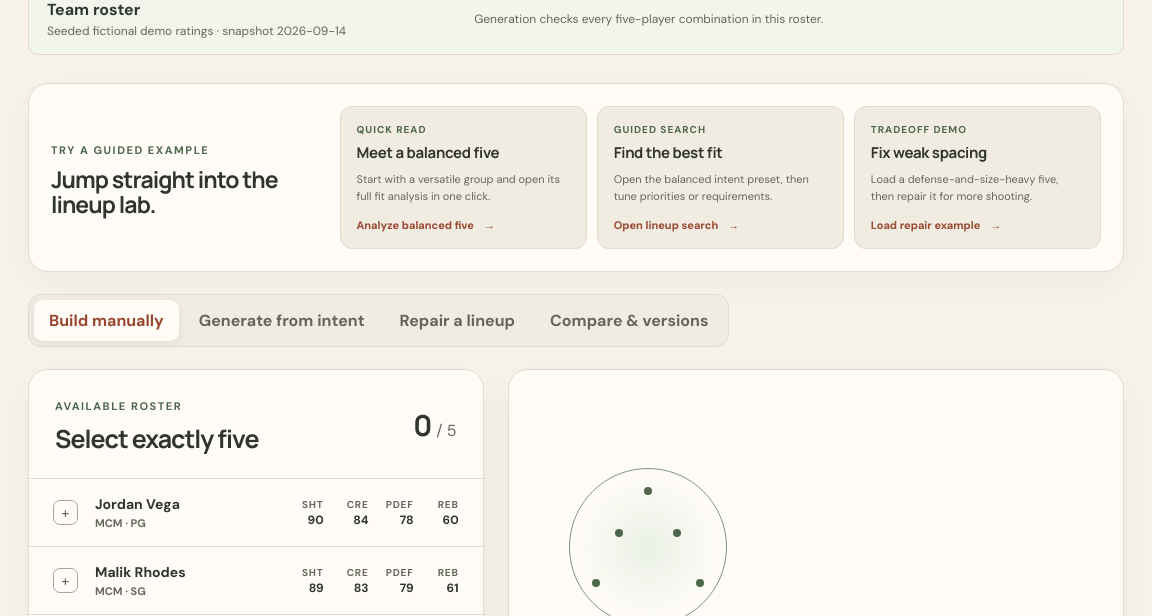
Test: structured lineup generation › submits balanced defaults, shows requirement evidence, and clears stale results on change
(page scrolled)
expect the button with aria-label "Select Jordan Vega" is shown: met, box [29, 480, 483, 548]
Click the tab "Generate from intent" at (282, 321), box [184, 300, 380, 342]
(page scrolled)
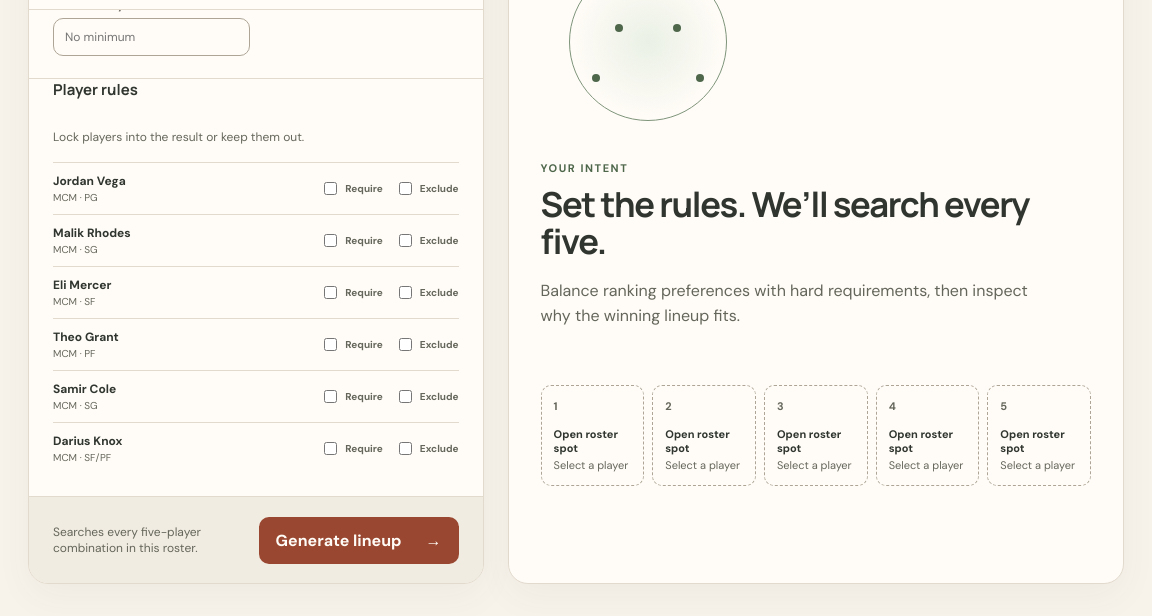
Click the button "Generate lineup →" at (359, 540), box [259, 517, 459, 564]
(page scrolled)
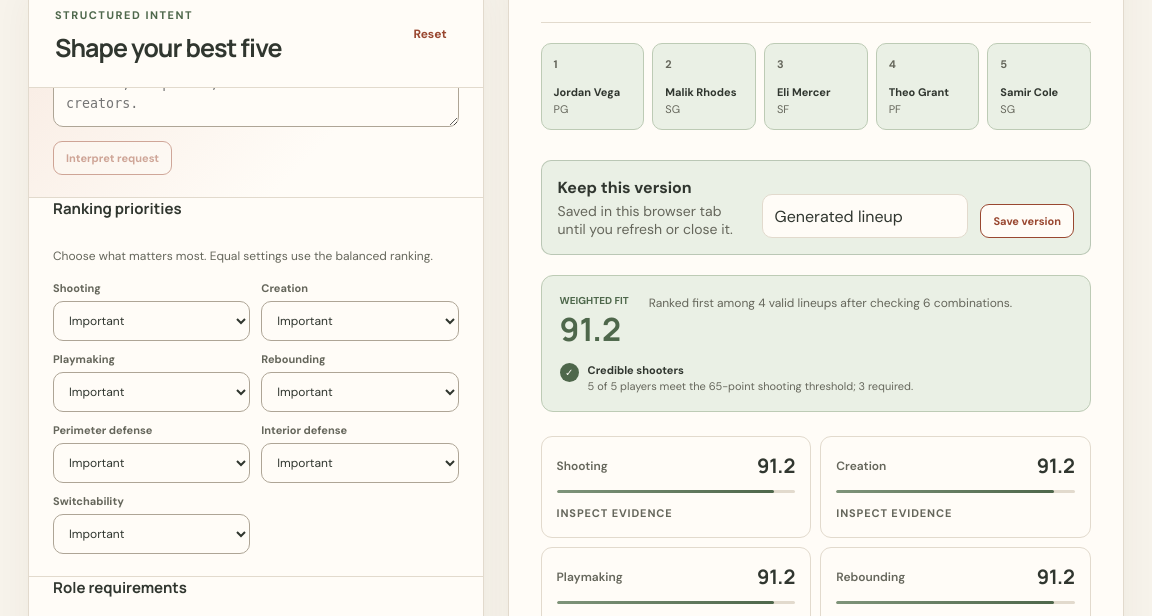
expect the text "Weighted fit" is shown: met, box [560, 294, 629, 307]
expect the text "Credible shooters" is shown: met, box [588, 363, 684, 377]
expect the text "Ranked first among 4 valid lineups" is shown: met, box [649, 295, 1012, 311]
Select "Helpful" in the dropdown labelled "Shooting" at (152, 320), box [53, 300, 250, 340]
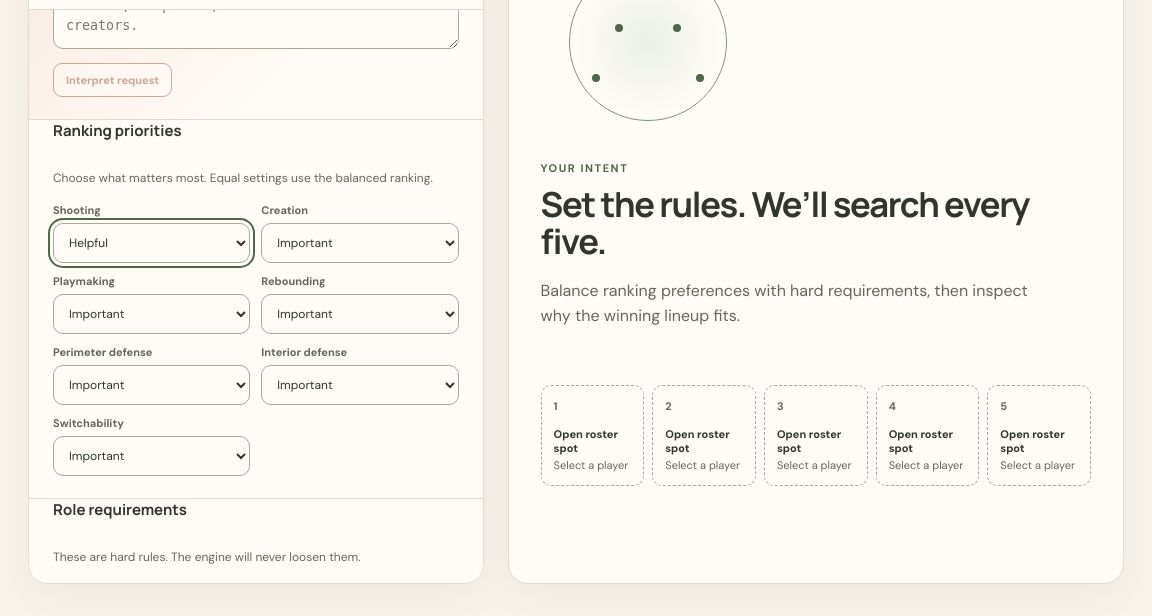
expect the heading "Set the rules. We’ll search every five." is shown: met, box [541, 185, 1091, 260]
